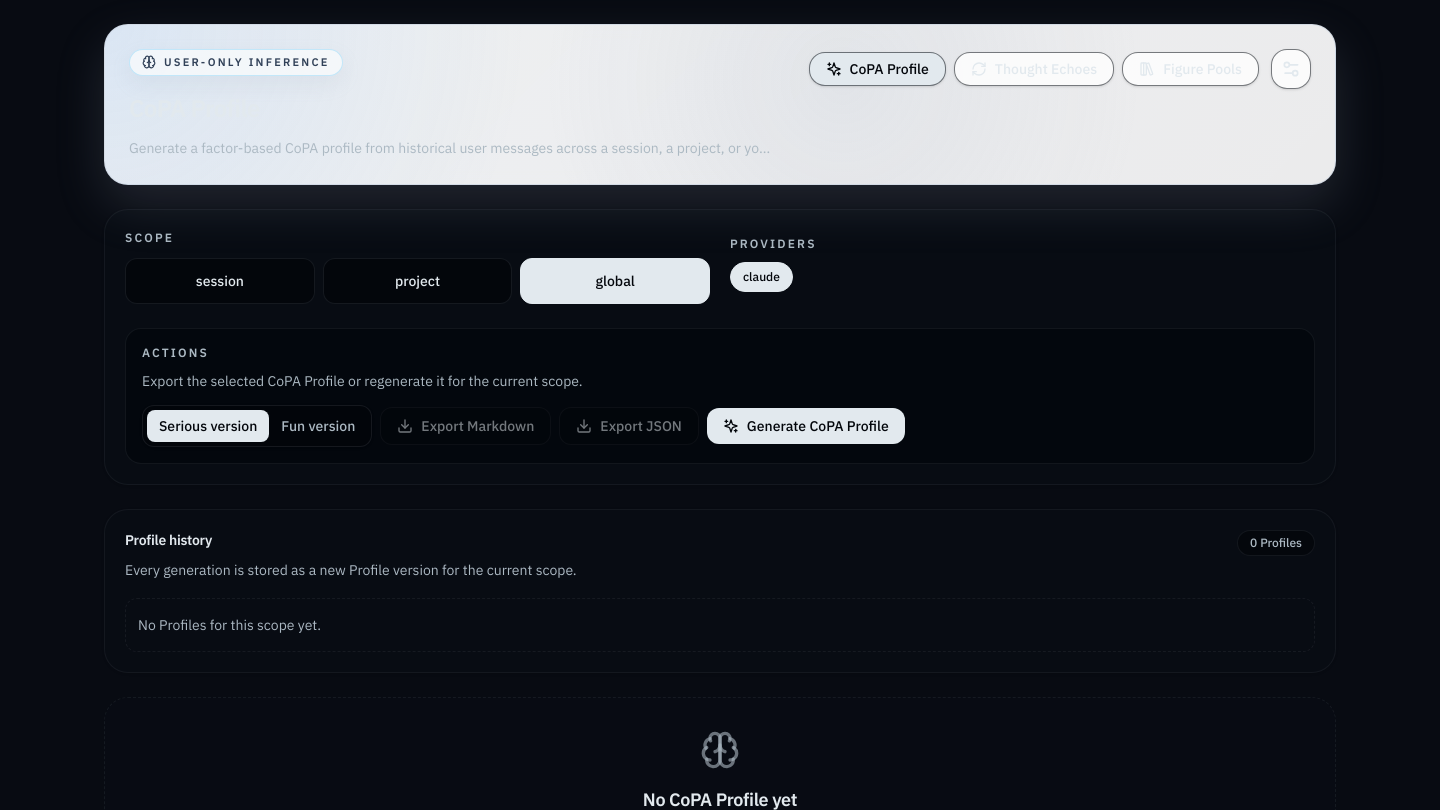
it: CopaProfilePage resonance layout › shows only pool-management content in the figure pools view
The image size is (1440, 810).
Click the button "Figure Pools" at (1191,69), box [1122,52,1259,86]
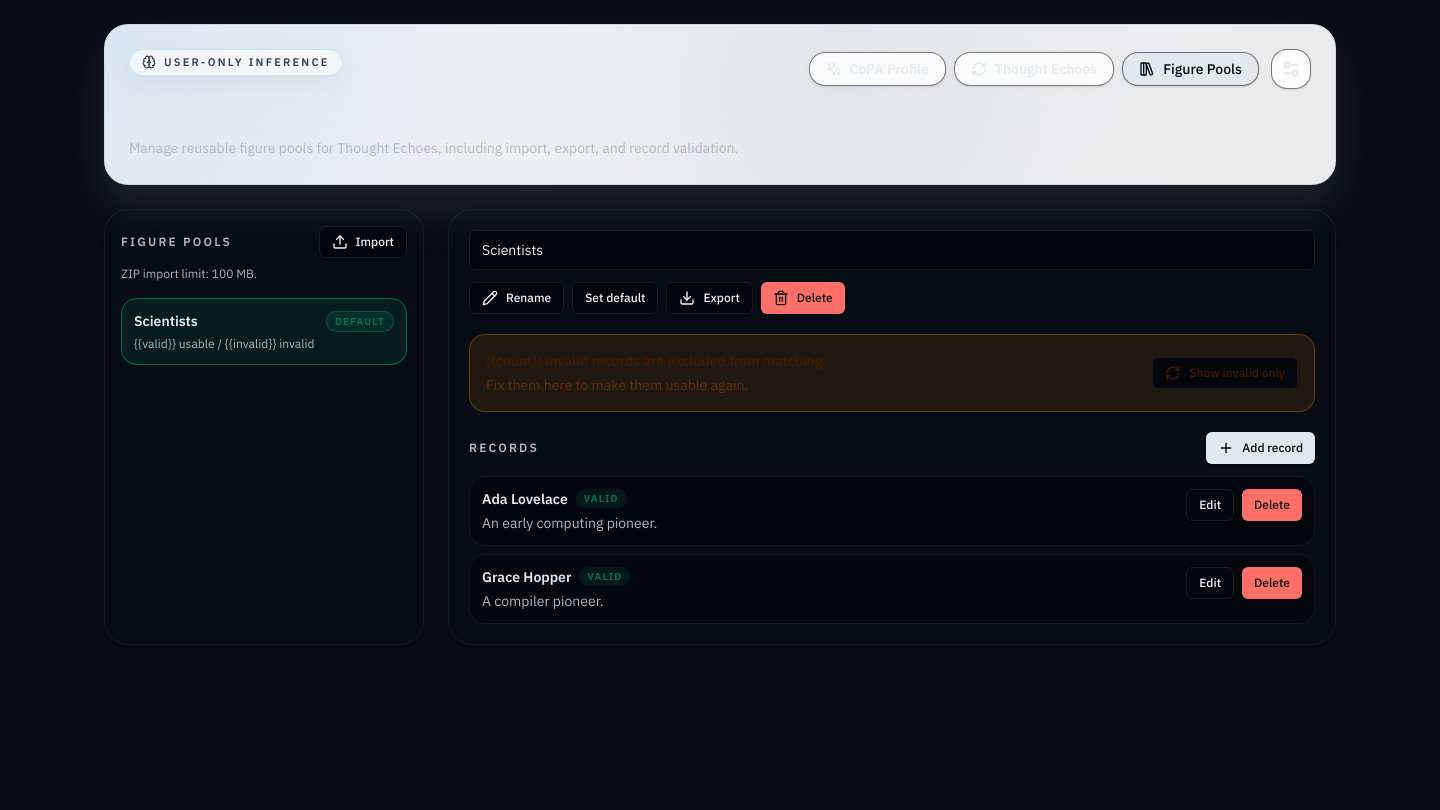
Result: the button "Import" is shown at [318,226,407,258]
Result: the text "Scope" is gone
Result: the heading "Profile history" is gone
